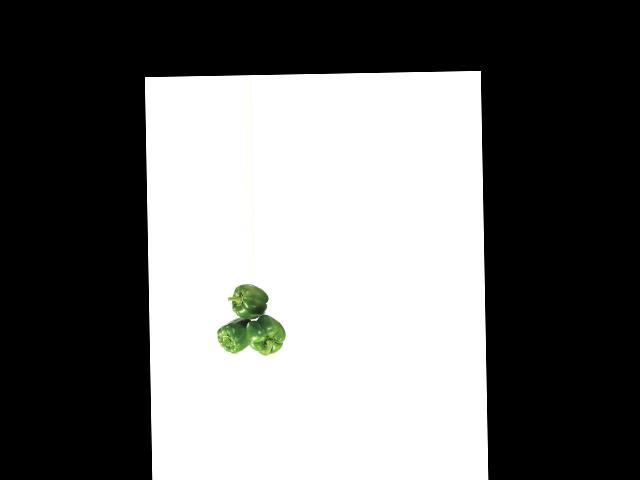bell_pepper: (244, 314, 289, 359)
